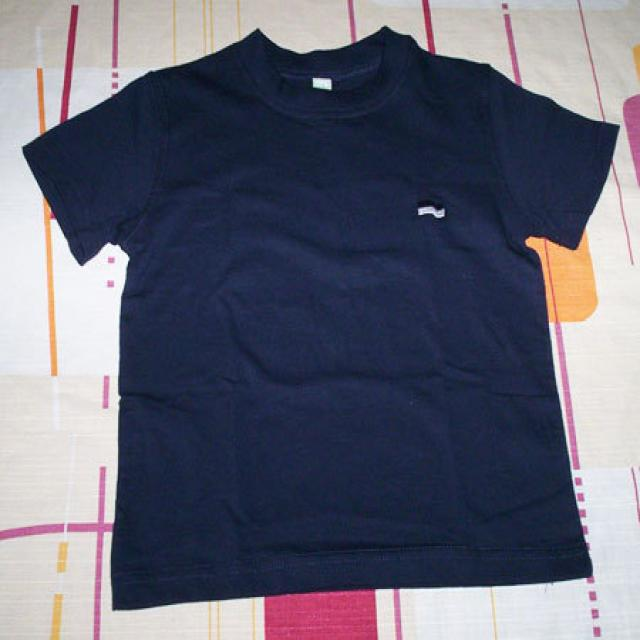shirt: (22, 26, 628, 616)
